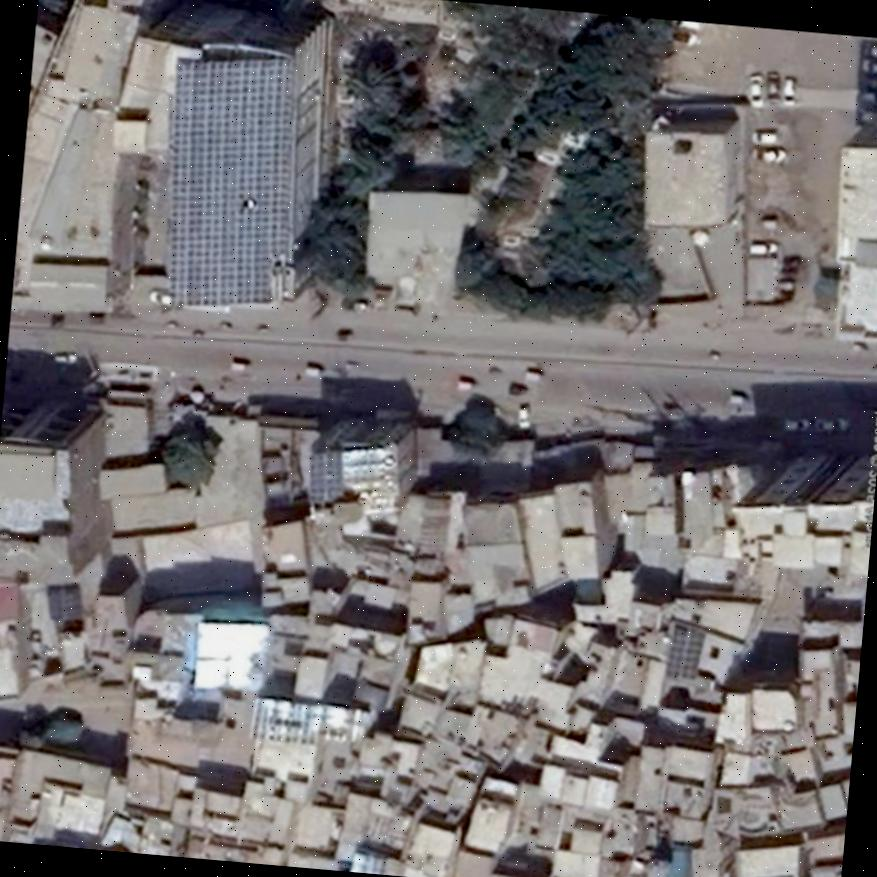Solarpanel: (170, 59, 287, 304), (188, 621, 265, 691), (664, 621, 704, 682), (309, 449, 340, 506)
